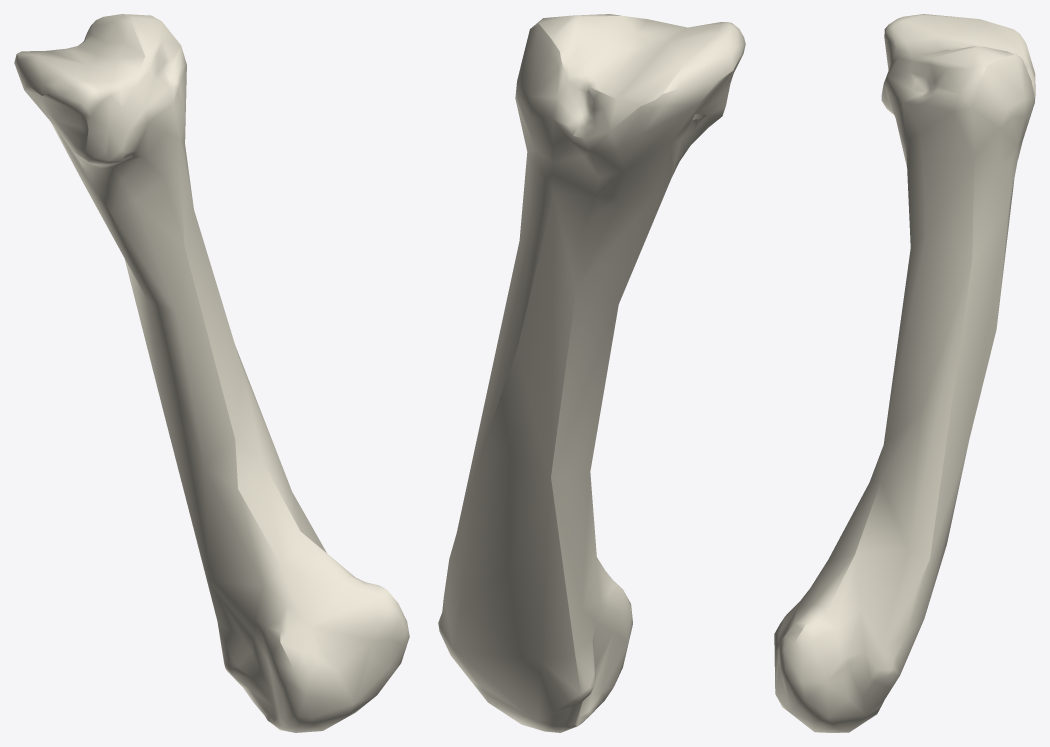
The model's file is fma24467_fj3243.glb.
3 renders of one model, left to right at view 1: azimuth 30°, elevation 25°; view 2: azimuth 150°, elevation 25°; view 3: azimuth 270°, elevation 25°, orthographic. The views are drawn at different scales.
Parts seen in each view (by area): view 1: FMA24467_FJ3243; view 2: FMA24467_FJ3243; view 3: FMA24467_FJ3243.
Boxes of the visible parts, bbox=[...] form: FMA24467_FJ3243: bbox=[14, 14, 409, 732]; FMA24467_FJ3243: bbox=[438, 14, 745, 732]; FMA24467_FJ3243: bbox=[774, 14, 1035, 732].
Size of the model in its own units: 0.0308 by 0.0678 by 0.0253.
